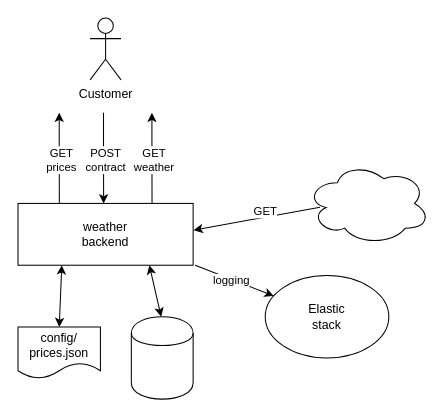
Image size: 448x417. Some labels were removed from this diagram. Each missing label, with the centre of its shape:
external weather provider: (367,203)
mySQL contracts: (161,357)
